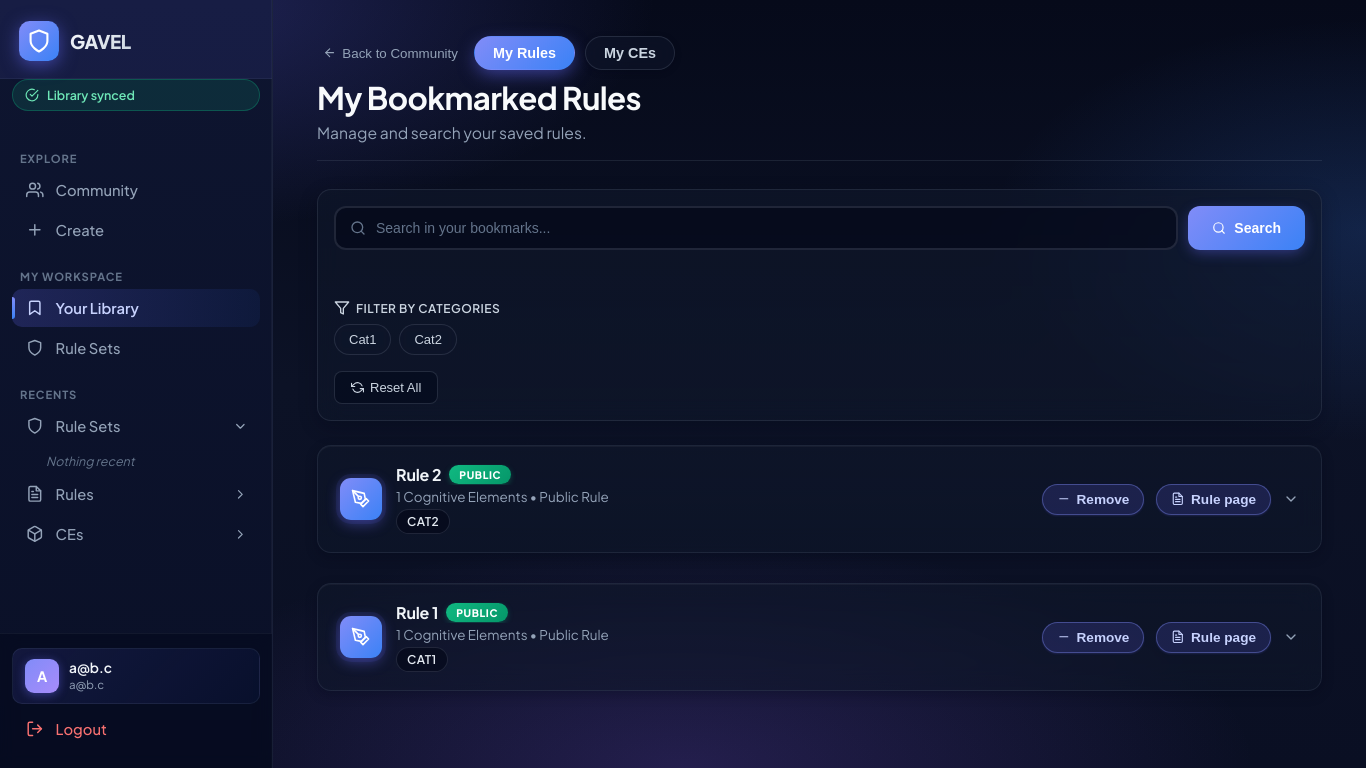
Test: BookmarksRules — remove bookmark › removes a bookmark and shows a success alert
The image size is (1366, 768).
Expected: the heading "Rule 1 Public" is shown, [396,602,508,623]
Click the button with aria-label "Bookmark rule" at x=1093, y=499, box [1042,484,1144,514]
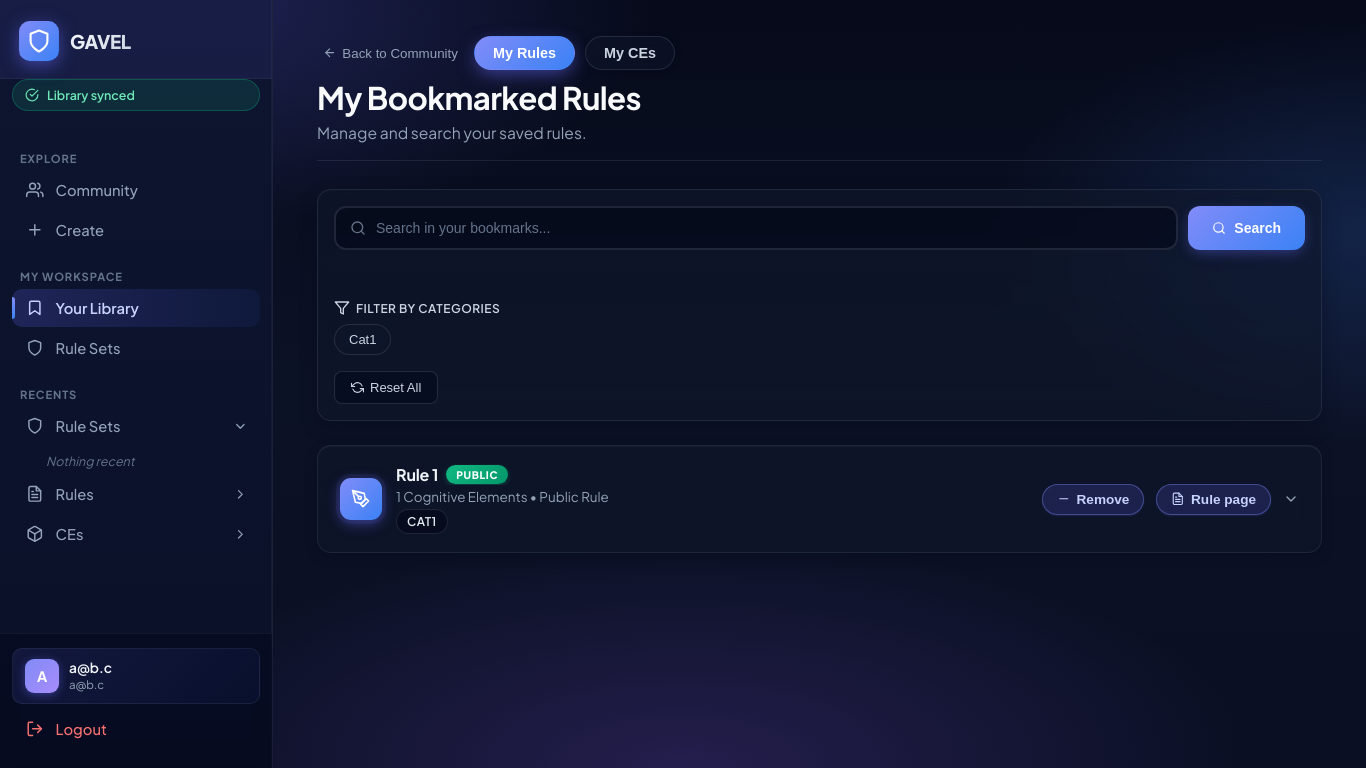
Result: the heading "Rule 2" is gone
